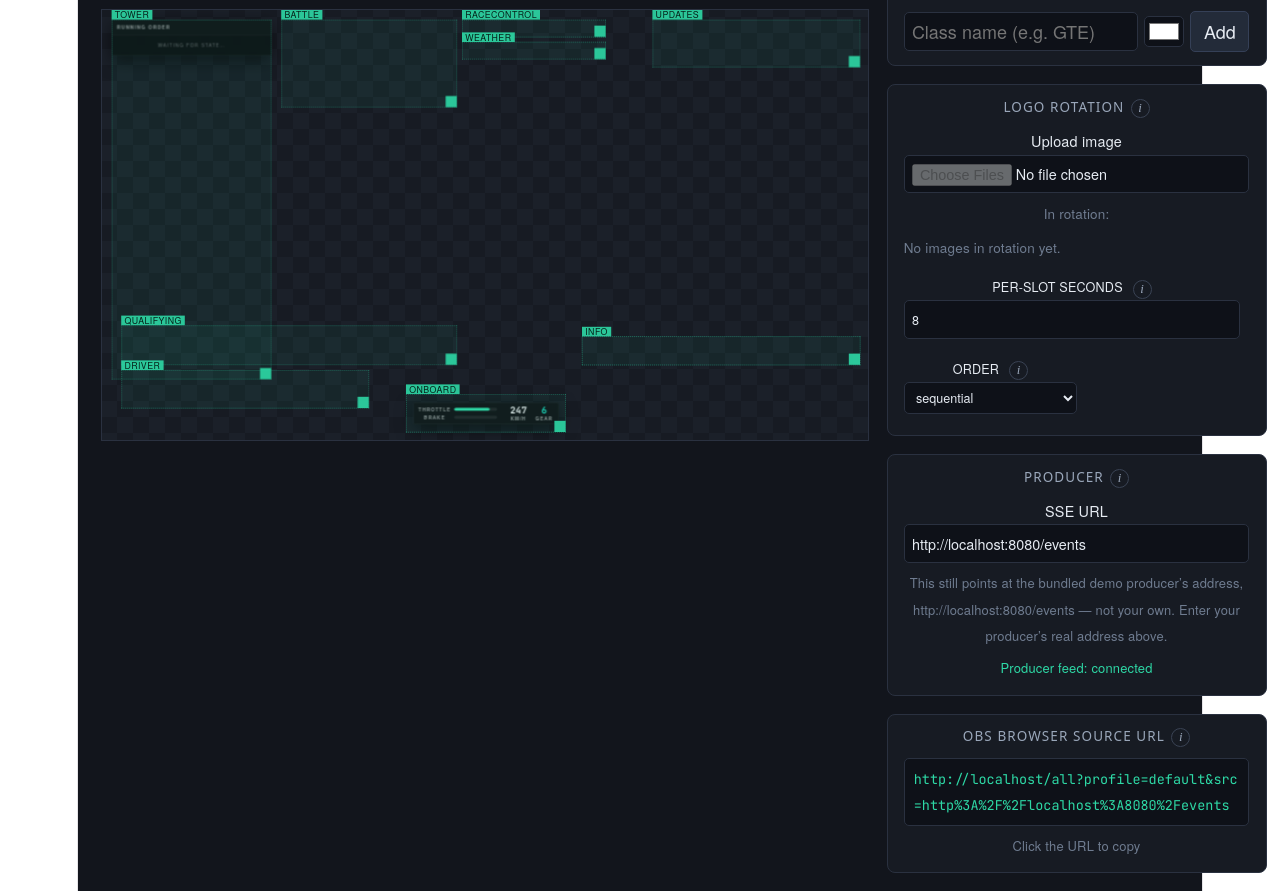
it: rule 27 — the connection follows the configured producer URL, debounced › reconnects when a URL the browser refused is edited back to one that worked
The width and height of the screenshot is (1280, 891).
(page scrolled)
Type "http://" into the field with test id "producer-src".
click(1076, 544); type("http://")  # box [904,524,1249,563]
Wait 500 ms
(page scrolled)
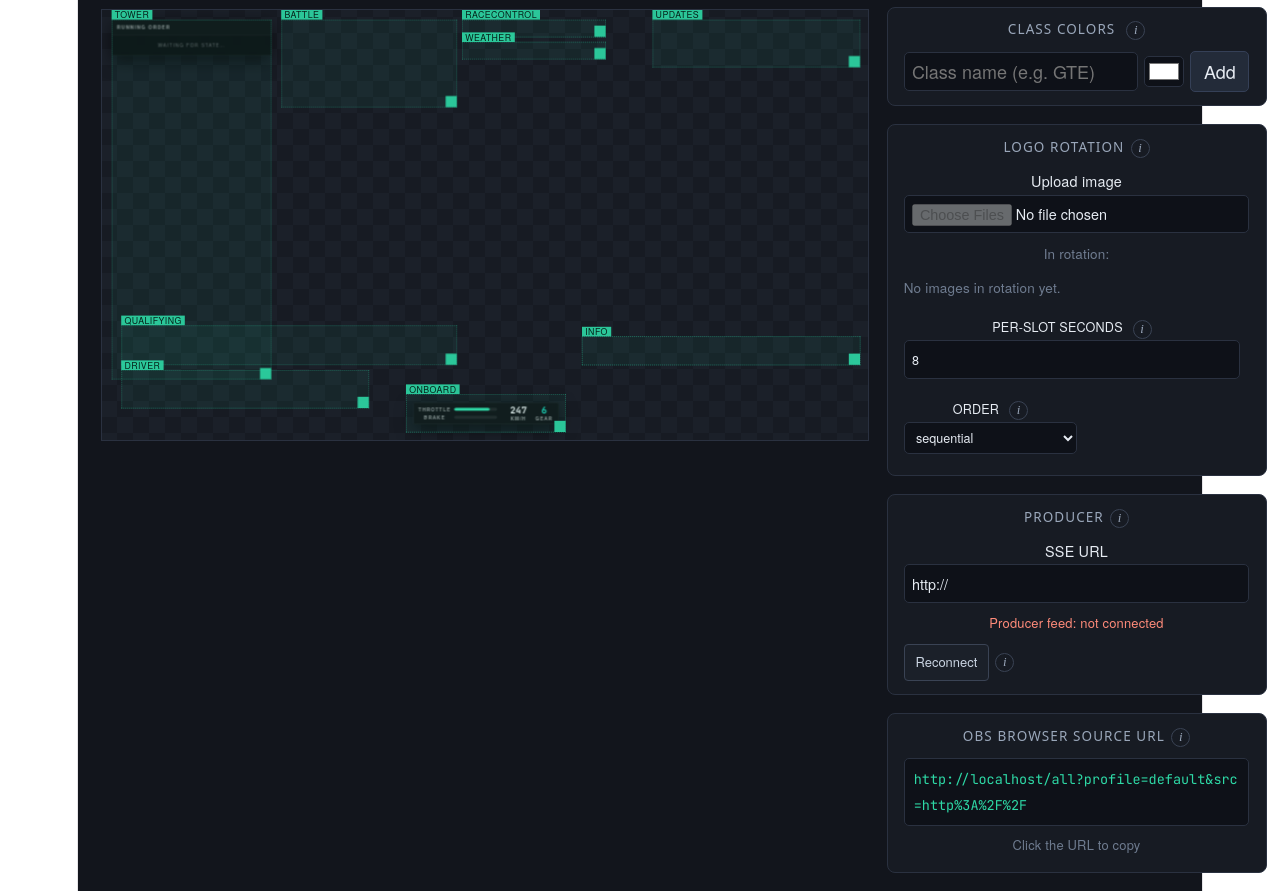
Result: the message with test id "feed-status" reads "Producer feed: not connected" at [989,614,1164,632]
Replace the text in the field with test id "producer-src" with "http://localhost:8080/events" at (1076, 584), box [904,564,1249,603]
Wait 500 ms
(page scrolled)
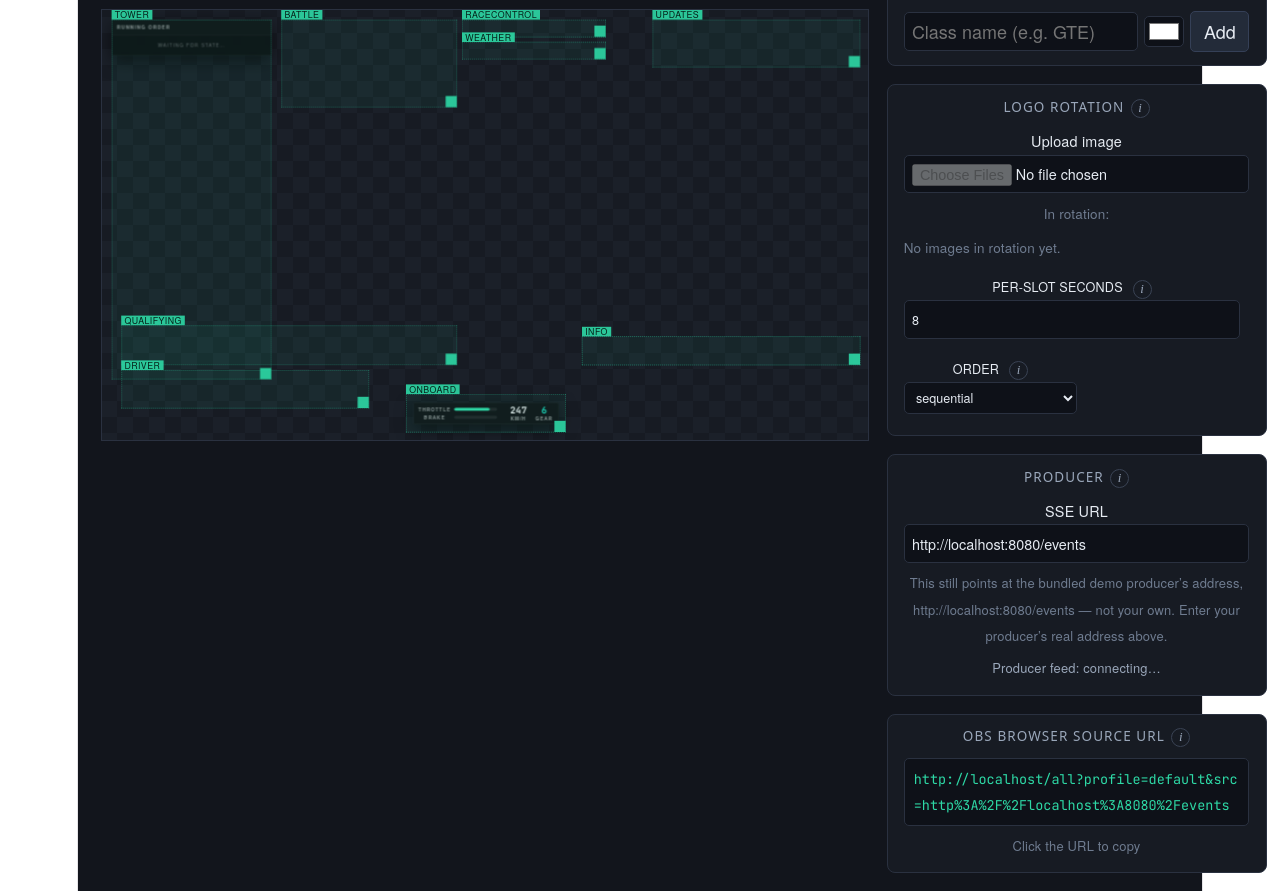
Result: the message with test id "feed-status" reads "Producer feed: connecting…" at [992,658,1161,677]
